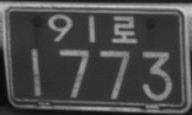1: (22, 49, 51, 97), (79, 14, 104, 43)
3: (141, 50, 172, 101)
7: (58, 47, 90, 98), (99, 49, 130, 98)
9: (47, 13, 73, 42)
로: (112, 15, 138, 43)
